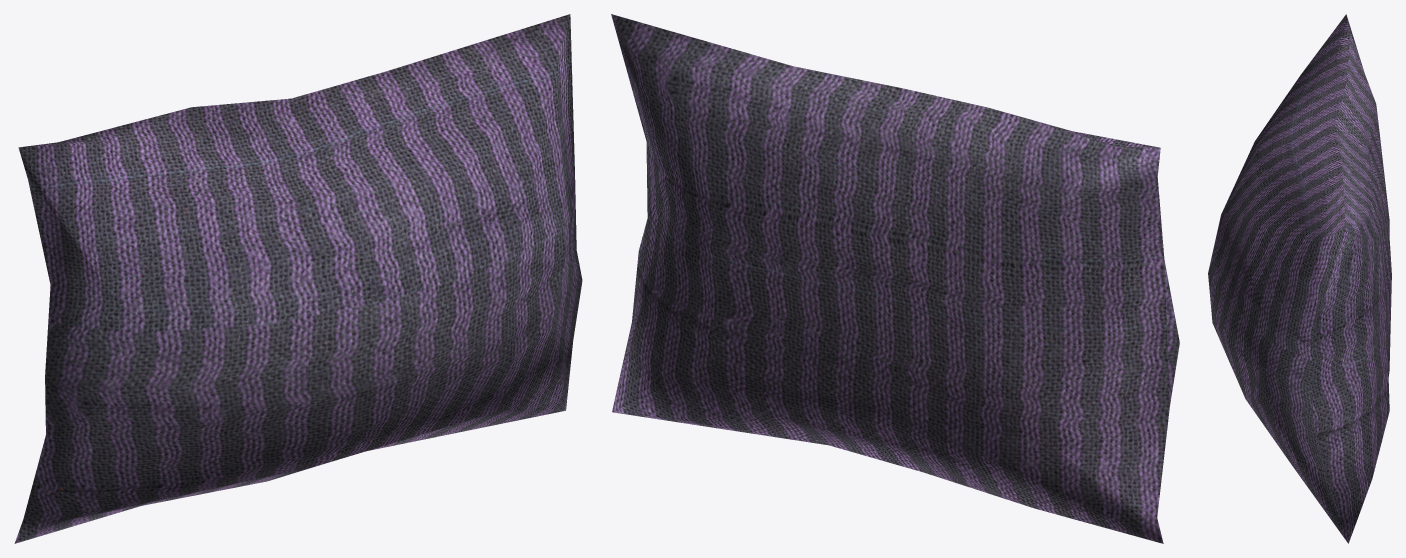
File: Pillow.fbx
3 views of the same model, side by side, from view 1: azimuth 30°, elevation 25°; view 2: azimuth 150°, elevation 25°; view 3: azimuth 270°, elevation 25° (orthographic). The views are drawn at different scales.
Parts seen in each view (by area): view 1: Pillow; view 2: Pillow; view 3: Pillow.
Part boxes in pixels (x1,y1,x2,y2): Pillow: (14,14,582,543); Pillow: (611,14,1179,543); Pillow: (1208,14,1391,543).
Size of the model in its own units: 1.14 by 0.7841 by 0.4126.
